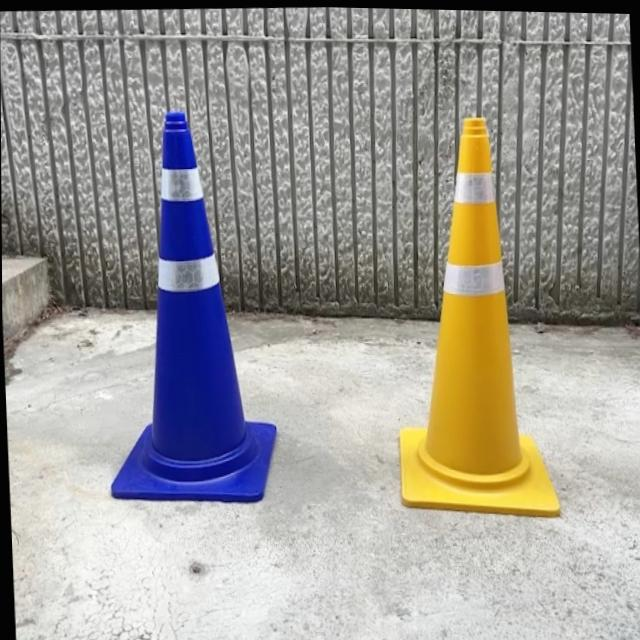b_rub: (110, 111, 276, 500)
y_rub: (399, 115, 559, 513)
